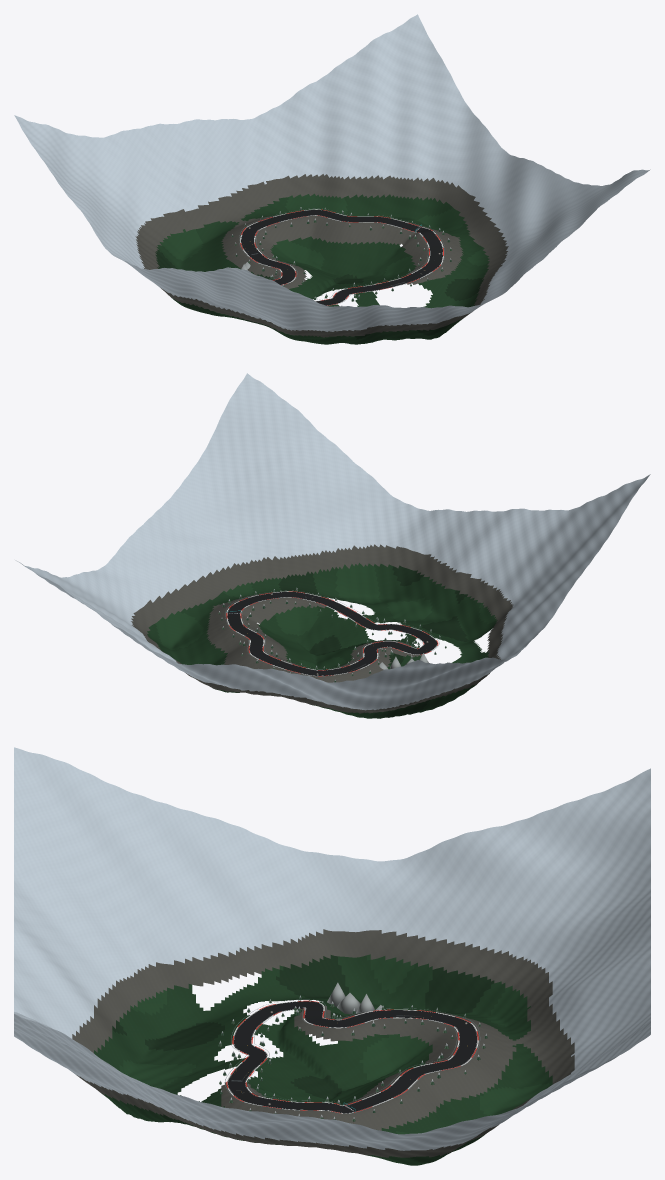
The model's file is rovers_rift.glb.
3 renders of one model, top to bottom at view 1: azimuth 30°, elevation 25°; view 2: azimuth 150°, elevation 25°; view 3: azimuth 270°, elevation 25°, orthographic. The views are drawn at different scales.
Visible parts, largest first — view 1: rovers_rift - Blender Mountain Course.012 - Combined Blender; view 2: rovers_rift - Blender Mountain Course.012 - Combined Blender; view 3: rovers_rift - Blender Mountain Course.012 - Combined Blender.
Boxes of the visible parts, x1,y1,x2,y2 form: rovers_rift - Blender Mountain Course.012 - Combined Blender: (14, 14, 650, 344); rovers_rift - Blender Mountain Course.012 - Combined Blender: (15, 373, 650, 718); rovers_rift - Blender Mountain Course.012 - Combined Blender: (14, 747, 650, 1165).
Bounding box in the file's own units: 844 × 309 × 844.
Materials: 25 (6 with a texture image).
